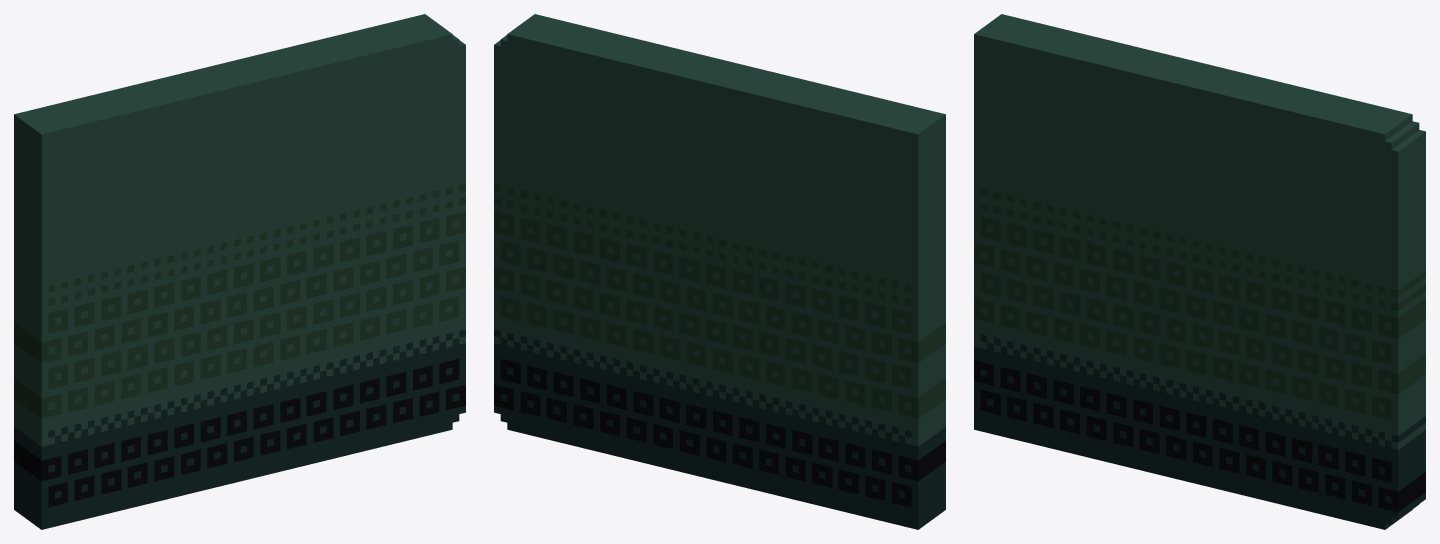
Rendered from radar_base.fbx.
The picture shows the model from 3 angles, left to right: view 1: azimuth 30°, elevation 25°; view 2: azimuth 150°, elevation 25°; view 3: azimuth 330°, elevation 25°; orthographic projection.
Parts seen in each view (by area): view 1: generated; view 2: generated; view 3: generated.
Part boxes in pixels (bbox=[...]): generated: bbox=[14, 14, 465, 529]; generated: bbox=[494, 14, 945, 529]; generated: bbox=[974, 14, 1425, 529].
Bounding box in the file's own units: 640 × 570 × 72.
